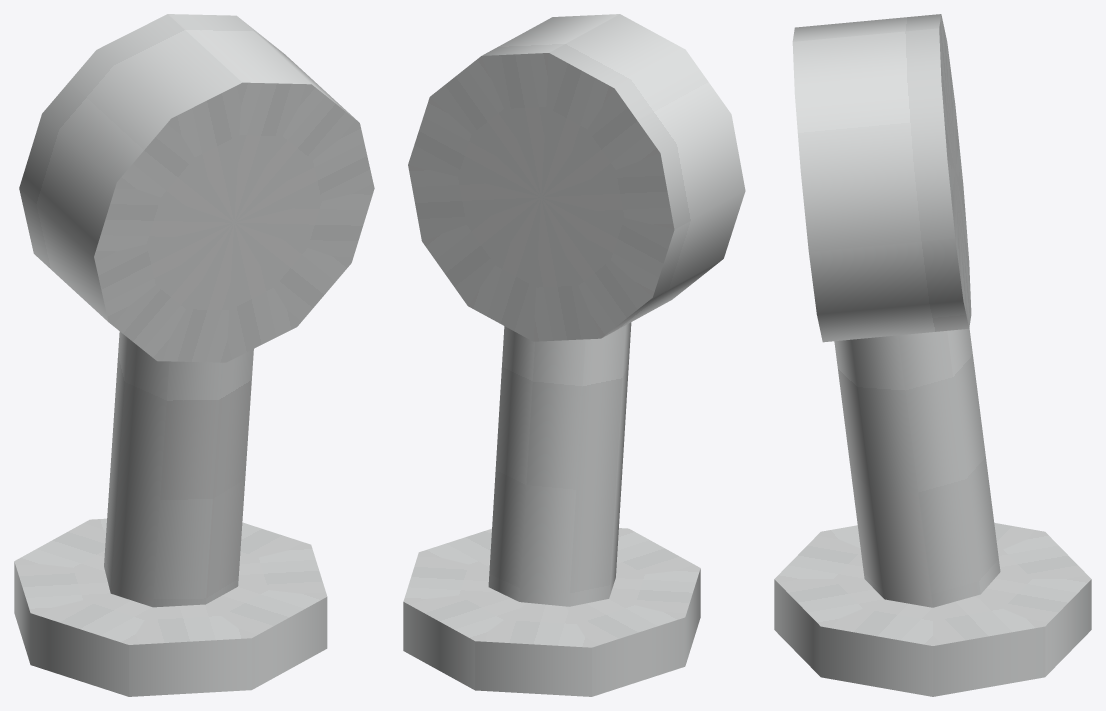
Rendered from trusssignalarm_stub_29.obj.
The picture shows the model from 3 angles, left to right: view 1: azimuth 30°, elevation 25°; view 2: azimuth 150°, elevation 25°; view 3: azimuth 270°, elevation 25°; orthographic projection. The views are drawn at different scales.
Parts seen in each view (by area): view 1: trusssignalarm_stub_29; view 2: trusssignalarm_stub_29; view 3: trusssignalarm_stub_29.
Part boxes in pixels (x1=…): trusssignalarm_stub_29: x1=14, y1=14, x2=374, y2=696; trusssignalarm_stub_29: x1=403, y1=14, x2=745, y2=696; trusssignalarm_stub_29: x1=774, y1=14, x2=1091, y2=696.
Bounding box in the file's own units: 0.35 × 0.7322 × 0.35.
